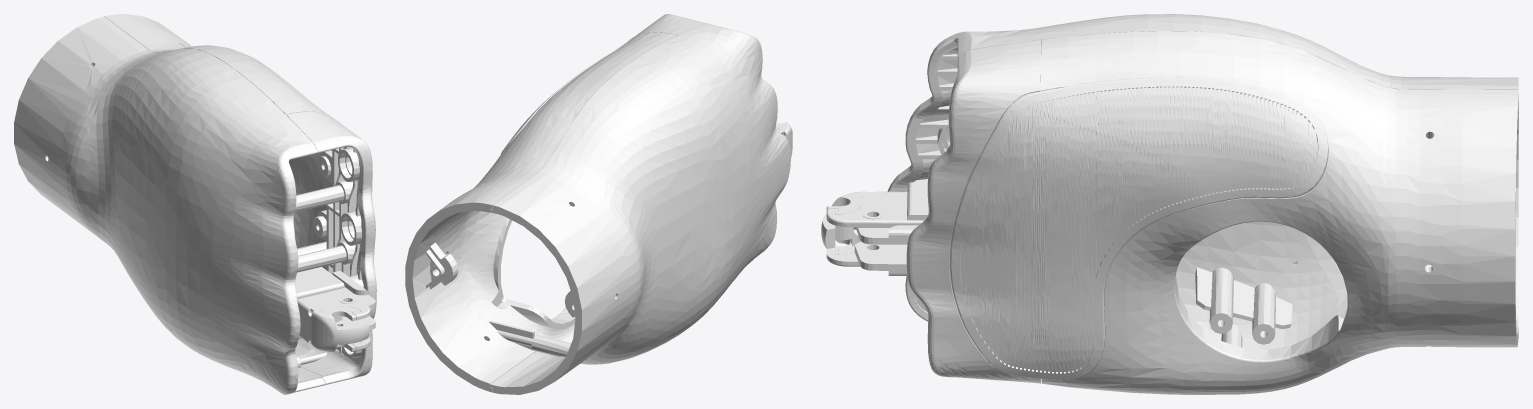
File: lh_hand_base_link_vis.obj
3 views of the same model, side by side, from view 1: azimuth 30°, elevation 25°; view 2: azimuth 150°, elevation 25°; view 3: azimuth 270°, elevation 25° (orthographic). The views are drawn at different scales.
Parts seen in each view (by area): view 1: lh_hand_base_link; view 2: lh_hand_base_link; view 3: lh_hand_base_link.
Part boxes in pixels (left/top/right/bottom): lh_hand_base_link: left=14, top=14, right=376, bottom=394; lh_hand_base_link: left=405, top=14, right=792, bottom=394; lh_hand_base_link: left=821, top=14, right=1518, bottom=394.
Bounding box in the file's own units: 0.0642 × 0.0927 × 0.1651.
Materials: 1 (1 with a texture image).
